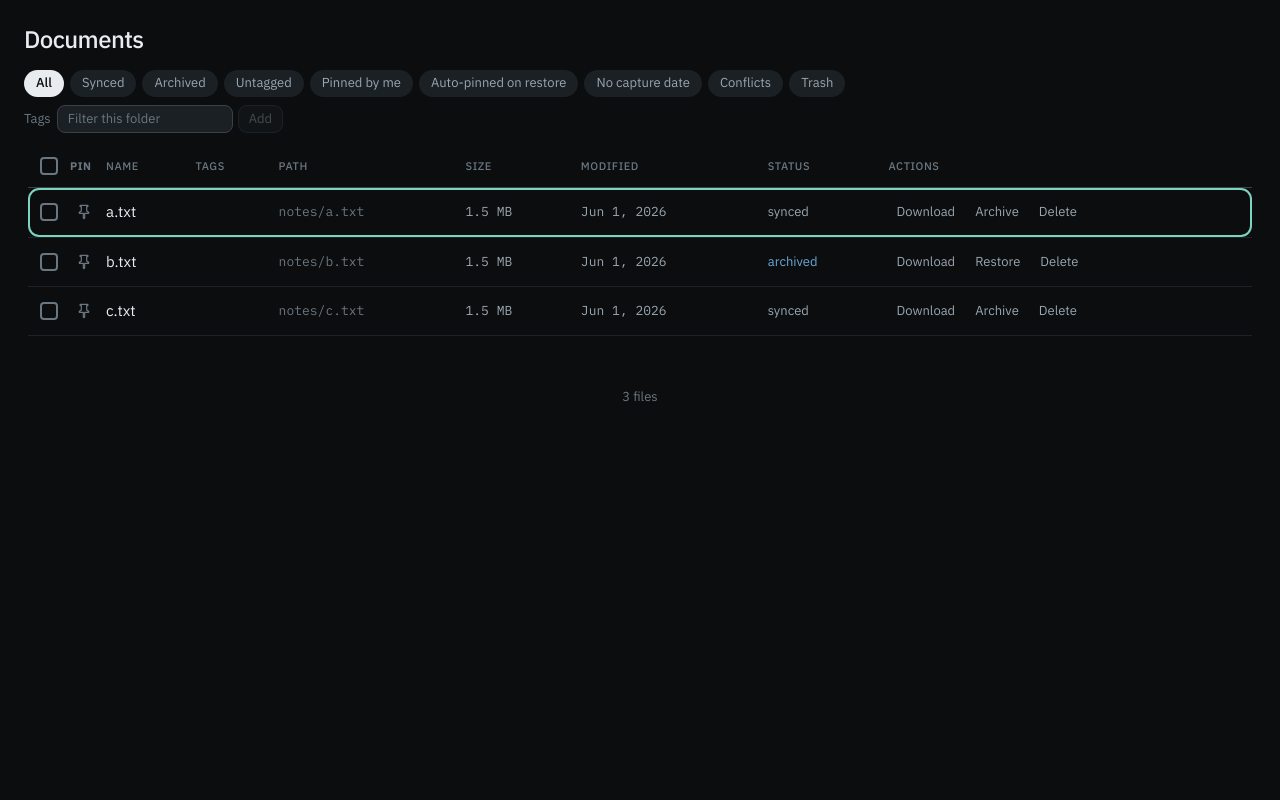
Test: FileBrowser › should shift-click a range of rows
Check: the button "a.txt" is shown, box top-left (106, 201), bottom-right (136, 224)
Step 1. Click the checkbox named "Select a.txt" → (49, 212), box top-left (40, 203), bottom-right (58, 221)
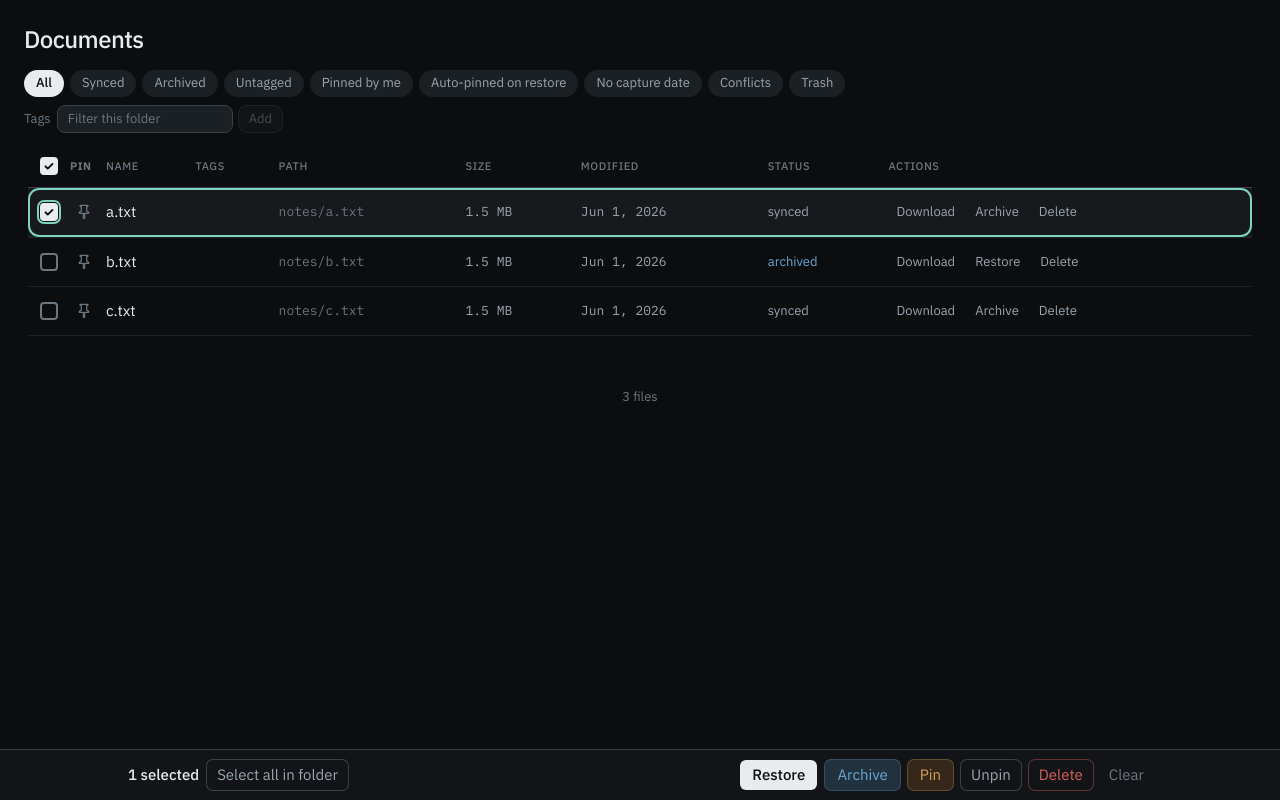
Step 2. Click the checkbox named "Select c.txt" → (49, 311), box top-left (40, 302), bottom-right (58, 320)
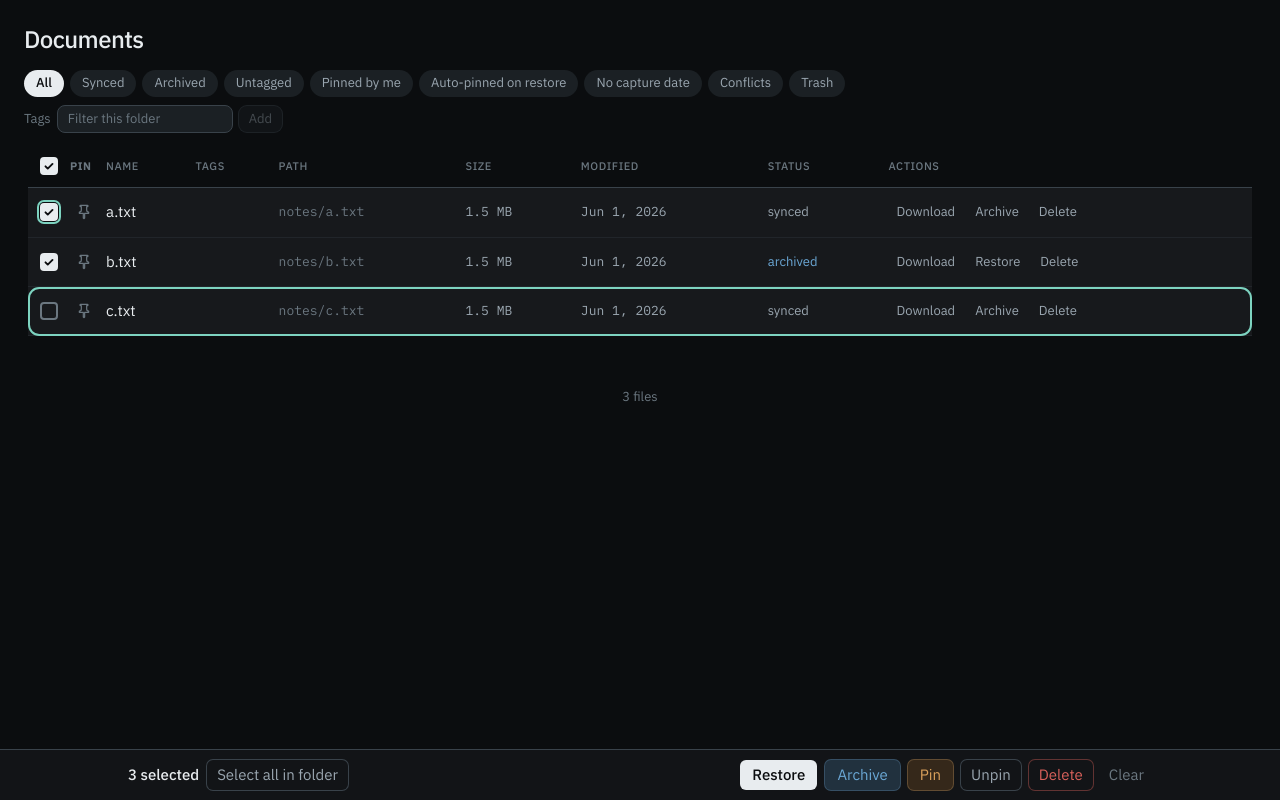
Check: the text "3 selected" is shown, box top-left (128, 764), bottom-right (199, 786)
